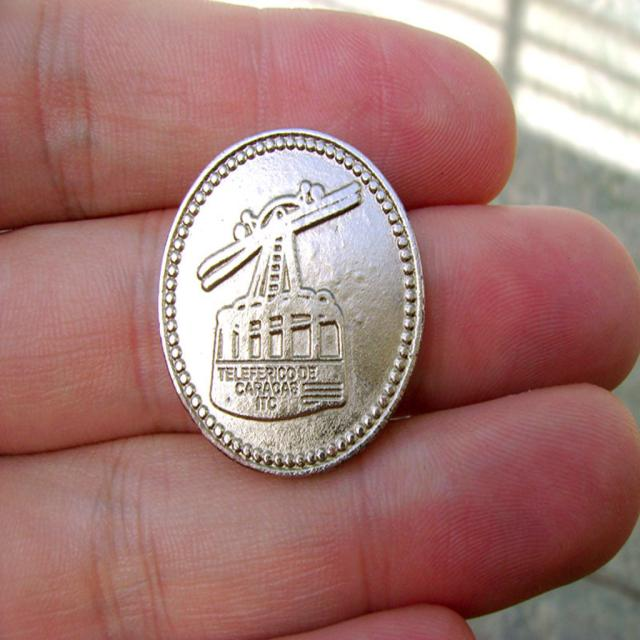Coin: (157, 121, 427, 479)
